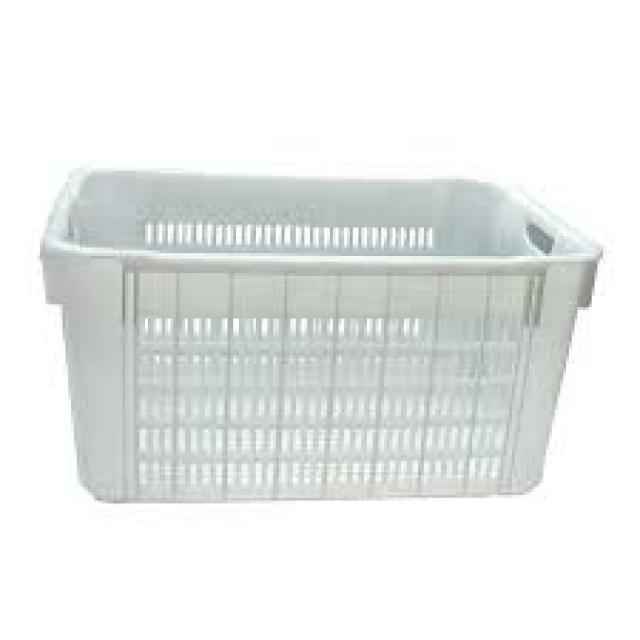basket: (39, 176, 601, 510)
